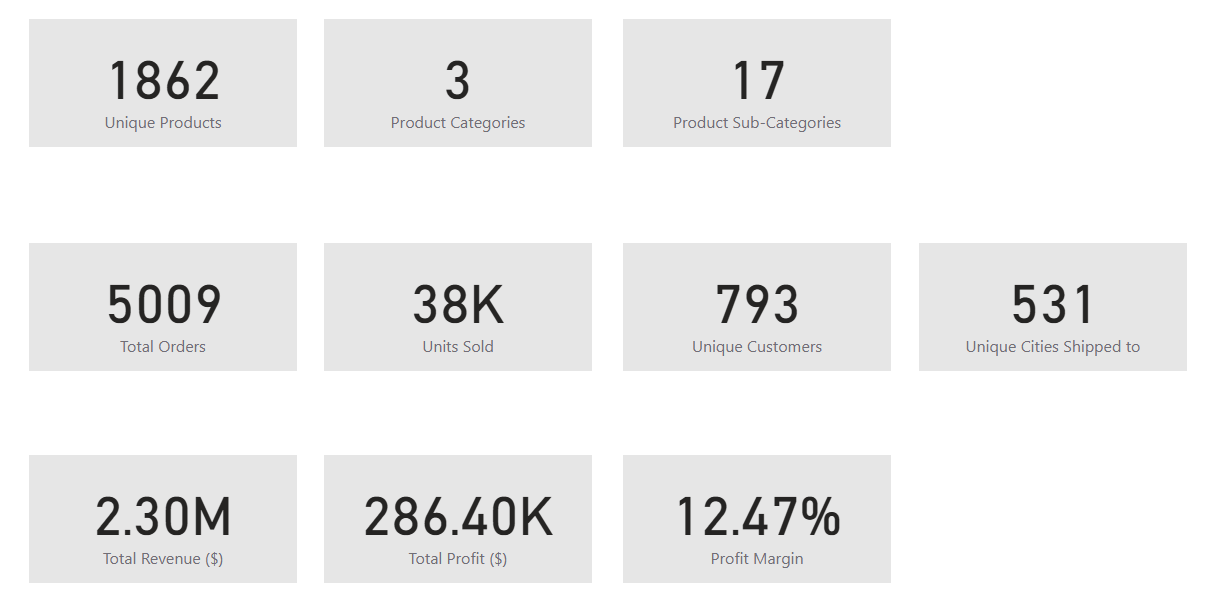

The page's visual inventory and layout, read from the dashboard file:
{"tool":"powerbi","page":{"name":"Key Metrics","canvas":[1280,720],"ordinal":0},"visuals":[{"type":"actionButton","box":[0,0,100,40],"z":1},{"type":"card","fields":{"Values":["Orders.Total Products"]},"box":[77,28,268,128],"z":2},{"type":"card","fields":{"Values":["Sum(Orders.Sales)"]},"box":[77,464,268,128],"z":3},{"type":"card","fields":{"Values":["Sum(Orders.Profit)"]},"box":[372,464,268,128],"z":4},{"type":"card","fields":{"Values":["Sum(Orders.Quantity)"]},"box":[372,252,268,128],"z":5},{"type":"card","fields":{"Values":["Count(Orders.Order ID)"]},"box":[77,252,268,128],"z":6},{"type":"card","fields":{"Values":["Count(Orders.Customer ID)"]},"box":[671,252,268,128],"z":7},{"type":"card","fields":{"Values":["Count(Orders.City)"]},"box":[967,252,268,128],"z":8},{"type":"card","fields":{"Values":["Count(Orders.Category)"]},"box":[372,28,268,128],"z":9},{"type":"card","fields":{"Values":["Count(Orders.Sub-Category)"]},"box":[671,28,268,128],"z":10},{"type":"card","fields":{"Values":["Orders.Profit Margin"]},"box":[671,464,268,128],"z":11}]}

Visuals, with their boxes on the page's 1280x720 design canvas (x1, y1, x2, y2). These are canvas units, not pixel positions in the 1217x612 screenshot, which may show the page scaled, cropped or inside an application window:
actionButton: (left=0, top=0, right=100, bottom=40)
card - Orders.Total Products: (left=77, top=28, right=345, bottom=156)
card - Sum(Orders.Sales): (left=77, top=464, right=345, bottom=592)
card - Sum(Orders.Profit): (left=372, top=464, right=640, bottom=592)
card - Sum(Orders.Quantity): (left=372, top=252, right=640, bottom=380)
card - Count(Orders.Order ID): (left=77, top=252, right=345, bottom=380)
card - Count(Orders.Customer ID): (left=671, top=252, right=939, bottom=380)
card - Count(Orders.City): (left=967, top=252, right=1235, bottom=380)
card - Count(Orders.Category): (left=372, top=28, right=640, bottom=156)
card - Count(Orders.Sub-Category): (left=671, top=28, right=939, bottom=156)
card - Orders.Profit Margin: (left=671, top=464, right=939, bottom=592)
